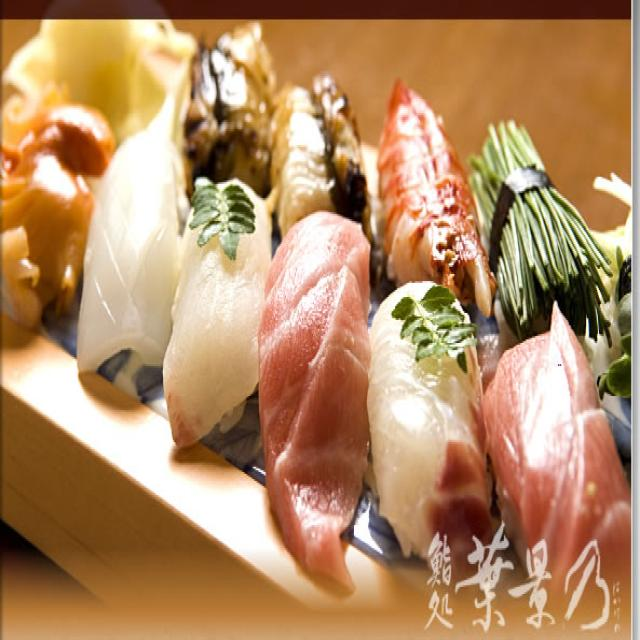寿司卷物: (0, 4, 640, 578)
